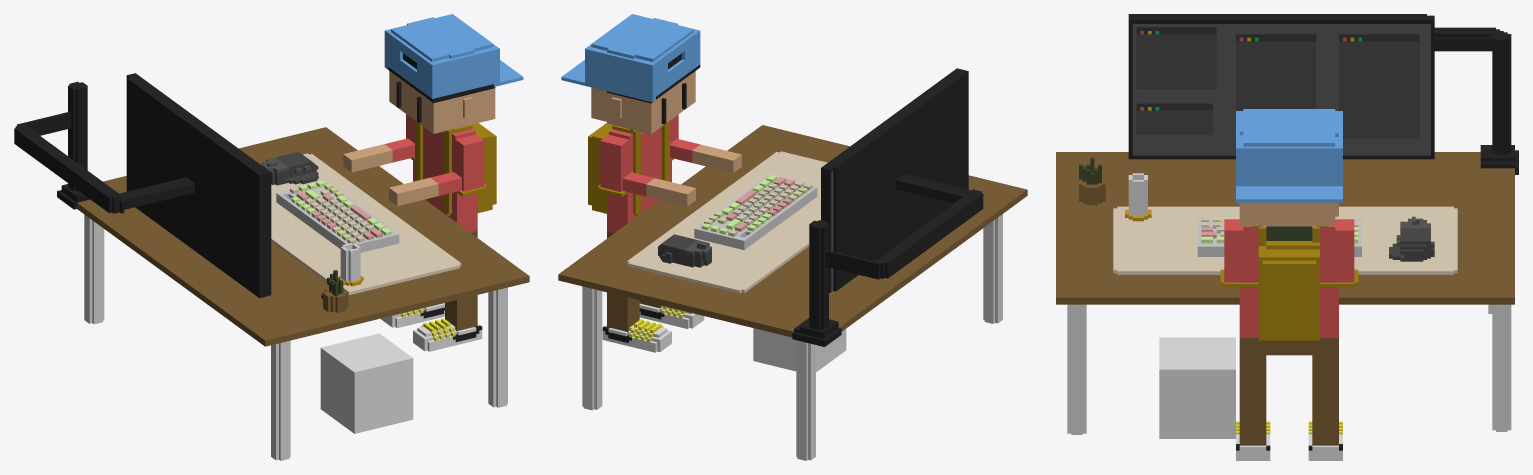
File: desk.glb
3 renders of one model, left to right at view 1: azimuth 30°, elevation 25°; view 2: azimuth 150°, elevation 25°; view 3: azimuth 270°, elevation 25°, orthographic. The views are drawn at different scales.
Parts seen in each view (by area): view 1: desk-10, desk-0, desk-4, desk-2, Cube, desk-3, desk-5, desk-7, desk-8, desk-9, desk-1; view 2: desk-10, desk-0, desk-4, desk-2, desk-3, desk-6, desk-9, desk-5, Cube, desk-7; view 3: desk-5, desk-10, desk-0, desk-2, Cube, desk-8, desk-6, desk-1, desk-3, desk-4.
Boxes of the visible parts, x1=… form: desk-10: x1=14, y1=81, x2=529, y2=346; desk-0: x1=343, y1=14, x2=523, y2=351; desk-4: x1=127, y1=78, x2=262, y2=298; desk-2: x1=261, y1=151, x2=461, y2=295; Cube: x1=320, y1=333, x2=413, y2=433; desk-3: x1=276, y1=180, x2=399, y2=252; desk-5: x1=126, y1=73, x2=271, y2=297; desk-7: x1=271, y1=340, x2=290, y2=460; desk-8: x1=488, y1=287, x2=507, y2=407; desk-9: x1=84, y1=214, x2=104, y2=324; desk-1: x1=321, y1=243, x2=363, y2=312; desk-10: x1=558, y1=125, x2=1027, y2=346; desk-0: x1=561, y1=14, x2=741, y2=352; desk-4: x1=833, y1=70, x2=968, y2=291; desk-2: x1=627, y1=151, x2=827, y2=293; desk-3: x1=694, y1=175, x2=817, y2=249; desk-6: x1=582, y1=286, x2=602, y2=410; desk-9: x1=796, y1=340, x2=815, y2=460; desk-5: x1=821, y1=68, x2=965, y2=293; Cube: x1=753, y1=328, x2=846, y2=372; desk-7: x1=983, y1=214, x2=1002, y2=323; desk-5: x1=1128, y1=15, x2=1434, y2=159; desk-10: x1=1056, y1=27, x2=1518, y2=304; desk-0: x1=1220, y1=109, x2=1358, y2=460; desk-2: x1=1113, y1=206, x2=1457, y2=274; Cube: x1=1159, y1=337, x2=1235, y2=438; desk-8: x1=1067, y1=304, x2=1086, y2=434; desk-6: x1=1492, y1=304, x2=1511, y2=431; desk-1: x1=1079, y1=157, x2=1151, y2=221; desk-3: x1=1197, y1=217, x2=1361, y2=256; desk-4: x1=1128, y1=14, x2=1426, y2=15.
Size of the model in its own units: 13.4 by 10.4 by 12.1.
12 materials, 11 textured.
